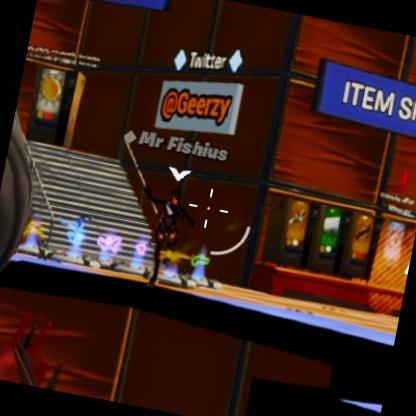person: (146, 188, 194, 286)
